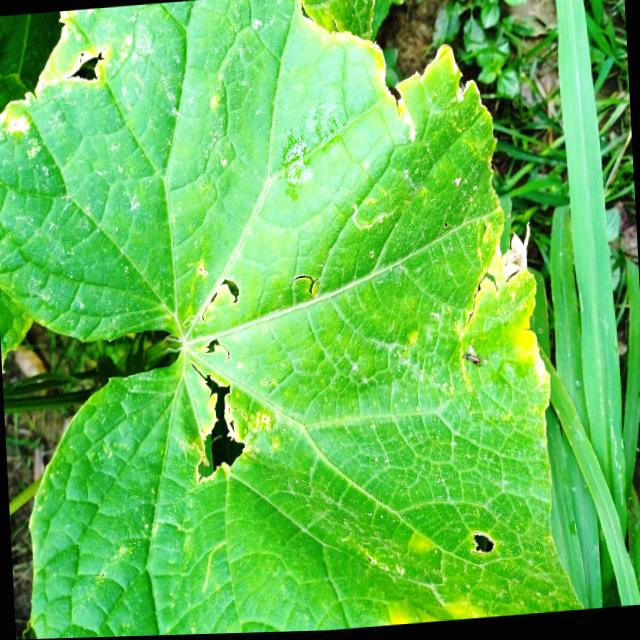Anthracnose: (182, 253, 255, 486), (61, 47, 114, 89), (468, 517, 499, 563)
